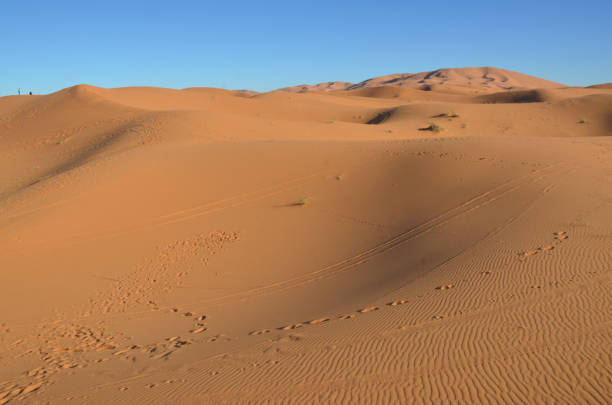human_footprint: (0, 233, 236, 402), (6, 234, 235, 401), (170, 307, 207, 333), (0, 382, 43, 404), (276, 317, 331, 330), (518, 244, 555, 259), (553, 231, 569, 242), (278, 323, 304, 329), (307, 317, 329, 324), (387, 299, 407, 306), (357, 306, 378, 312), (249, 329, 269, 335), (190, 326, 206, 333), (436, 284, 454, 290), (540, 245, 554, 251), (338, 314, 354, 319), (432, 315, 444, 320), (480, 270, 491, 275)
